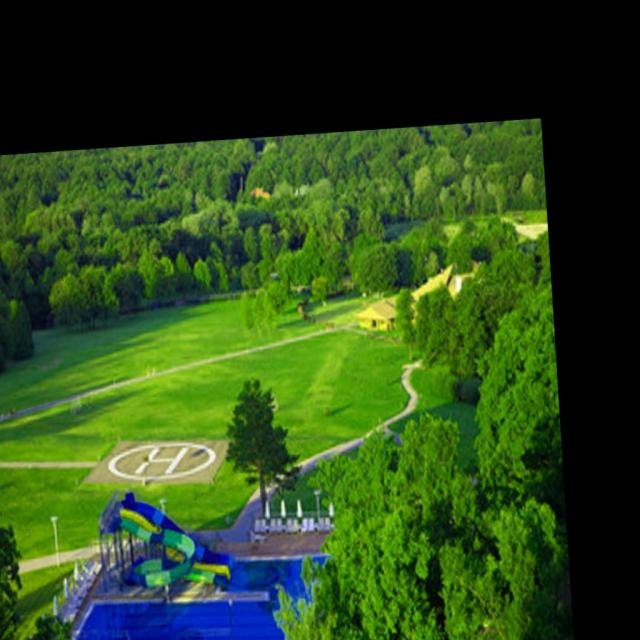helipad: (105, 438, 219, 481)
